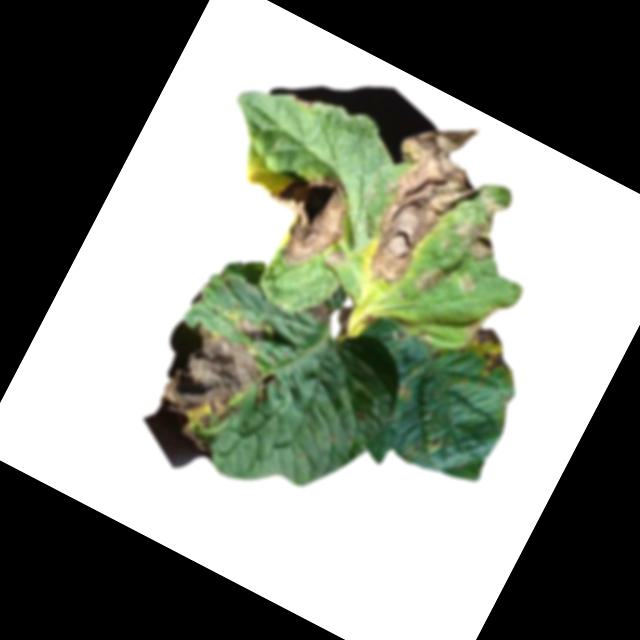Early_blight: (336, 100, 505, 305), (145, 320, 273, 463), (247, 154, 364, 279), (443, 186, 516, 267), (460, 323, 522, 381), (411, 260, 446, 299), (229, 312, 265, 343), (328, 303, 357, 339), (304, 296, 336, 328), (322, 247, 348, 270), (456, 276, 476, 296)
